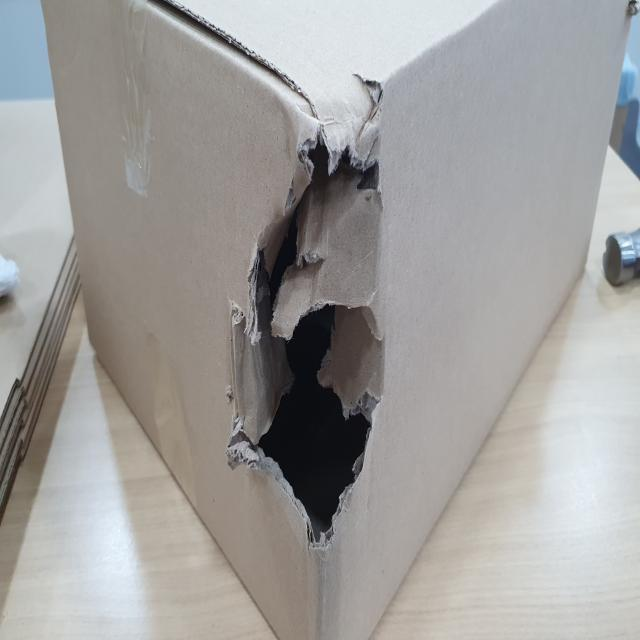hole: (216, 66, 403, 554)
